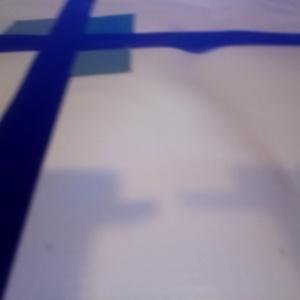bottom_right: (40, 35, 130, 76)
top_left: (5, 19, 82, 51)
top_right: (59, 14, 133, 47)
